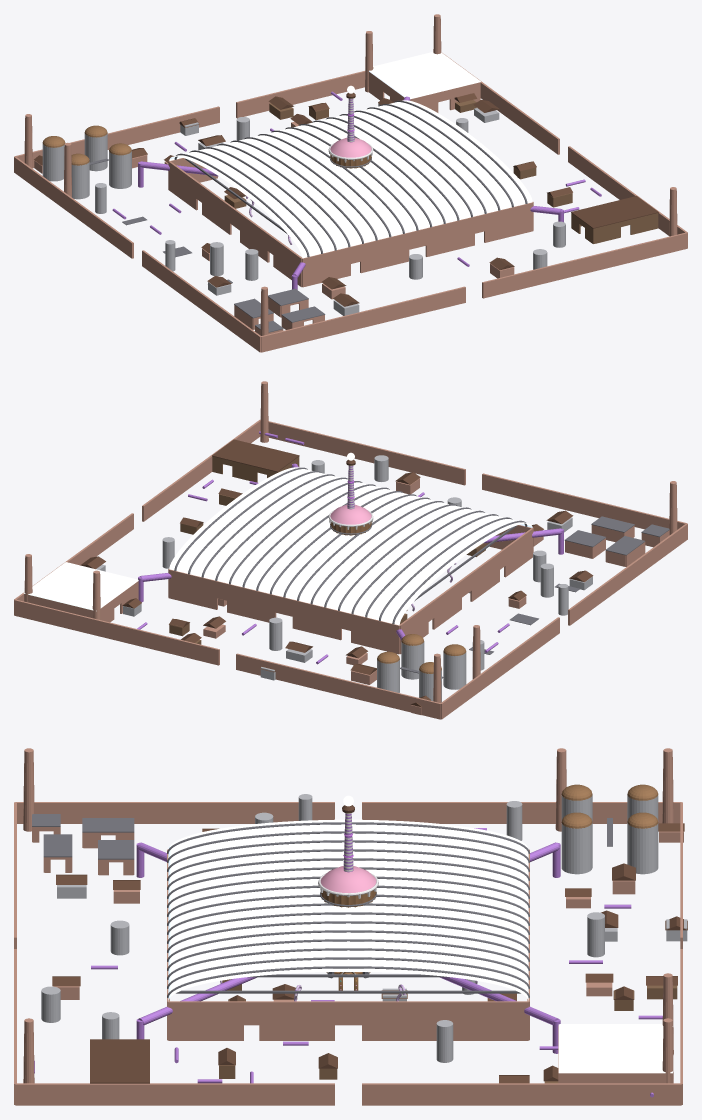
The model's file is ChocolateFactory_MainStructures.fbx.
3 renders of one model, top to bottom at view 1: azimuth 30°, elevation 25°; view 2: azimuth 150°, elevation 25°; view 3: azimuth 270°, elevation 25°, orthographic. The views are drawn at different scales.
Parts seen in each view (by area): view 1: CHO_FactoryGlassVault, CHO_FactoryWall_05, CHO_FactoryWall_04, CHO_ProductionHall_Roof, CHO_FactoryWall_07, CHO_FactoryWall_06, CHO_FactoryWall, CHO_FactoryWall_01, CHO_Warehouse_Roof, CHO_MainHall_Wall_02, CHO_MainHall_Wall_01, CHO_MainHall_Wall_03 (+12 smaller); view 2: CHO_FactoryGlassVault, CHO_FactoryWall_01, CHO_FactoryWall, CHO_FactoryWall_05, CHO_FactoryWall_04, CHO_ProductionHall_Roof, CHO_FactoryWall_06, CHO_FactoryWall_07, CHO_FactoryWall_02, CHO_Warehouse_Roof, CHO_MainHall_Wall_10, CHO_MainHall_Wall_08 (+12 smaller); view 3: CHO_FactoryGlassVault, CHO_FactoryWall_02, CHO_FactoryWall_03, CHO_FactoryWall_06, CHO_ProductionHall_Roof, CHO_FactoryWall_07, CHO_MainHall_Wall_05, CHO_MainHall_Wall_06, CHO_MainHall_Wall_07, CHO_MainHall_Wall_04, CHO_Warehouse_Roof, CHO_Landmark_ChocolateTank (+39 smaller).
Boxes of the visible parts, x1=… form: CHO_FactoryGlassVault: x1=169, y1=100, x2=532, y2=258; CHO_FactoryWall_05: x1=482, y1=232, x2=687, y2=298; CHO_FactoryWall_04: x1=261, y1=286, x2=465, y2=352; CHO_ProductionHall_Roof: x1=369, y1=52, x2=480, y2=99; CHO_FactoryWall_07: x1=14, y1=156, x2=133, y2=258; CHO_FactoryWall_06: x1=142, y1=250, x2=260, y2=352; CHO_FactoryWall: x1=14, y1=106, x2=219, y2=168; CHO_FactoryWall_01: x1=236, y1=71, x2=365, y2=118; CHO_Warehouse_Roof: x1=571, y1=196, x2=658, y2=228; CHO_MainHall_Wall_02: x1=425, y1=216, x2=474, y2=256; CHO_MainHall_Wall_01: x1=360, y1=232, x2=409, y2=273; CHO_MainHall_Wall_03: x1=484, y1=202, x2=533, y2=242; CHO_FactoryGlassVault: x1=169, y1=467, x2=532, y2=625; CHO_FactoryWall_01: x1=14, y1=599, x2=219, y2=665; CHO_FactoryWall: x1=236, y1=653, x2=440, y2=719; CHO_FactoryWall_05: x1=268, y1=421, x2=465, y2=485; CHO_FactoryWall_04: x1=482, y1=473, x2=687, y2=529; CHO_ProductionHall_Roof: x1=23, y1=562, x2=138, y2=611; CHO_FactoryWall_06: x1=568, y1=523, x2=687, y2=625; CHO_FactoryWall_07: x1=441, y1=617, x2=559, y2=719; CHO_FactoryWall_02: x1=142, y1=419, x2=260, y2=521; CHO_Warehouse_Roof: x1=212, y1=439, x2=299, y2=472; CHO_MainHall_Wall_10: x1=292, y1=599, x2=341, y2=640; CHO_MainHall_Wall_08: x1=168, y1=569, x2=217, y2=609; CHO_FactoryGlassVault: x1=168, y1=819, x2=528, y2=1001; CHO_FactoryWall_02: x1=15, y1=1083, x2=334, y2=1105; CHO_FactoryWall_03: x1=362, y1=1083, x2=681, y2=1105; CHO_FactoryWall_06: x1=15, y1=802, x2=334, y2=823; CHO_ProductionHall_Roof: x1=558, y1=1024, x2=672, y2=1073; CHO_FactoryWall_07: x1=362, y1=802, x2=681, y2=823; CHO_MainHall_Wall_05: x1=259, y1=1001, x2=334, y2=1040; CHO_MainHall_Wall_06: x1=362, y1=1001, x2=437, y2=1040; CHO_MainHall_Wall_07: x1=453, y1=1001, x2=528, y2=1040; CHO_MainHall_Wall_04: x1=168, y1=1001, x2=243, y2=1040; CHO_Warehouse_Roof: x1=90, y1=1039, x2=149, y2=1083; CHO_Landmark_ChocolateTank: x1=318, y1=866, x2=378, y2=974.
Size of the model in its own units: 347 by 97.08 by 348.
